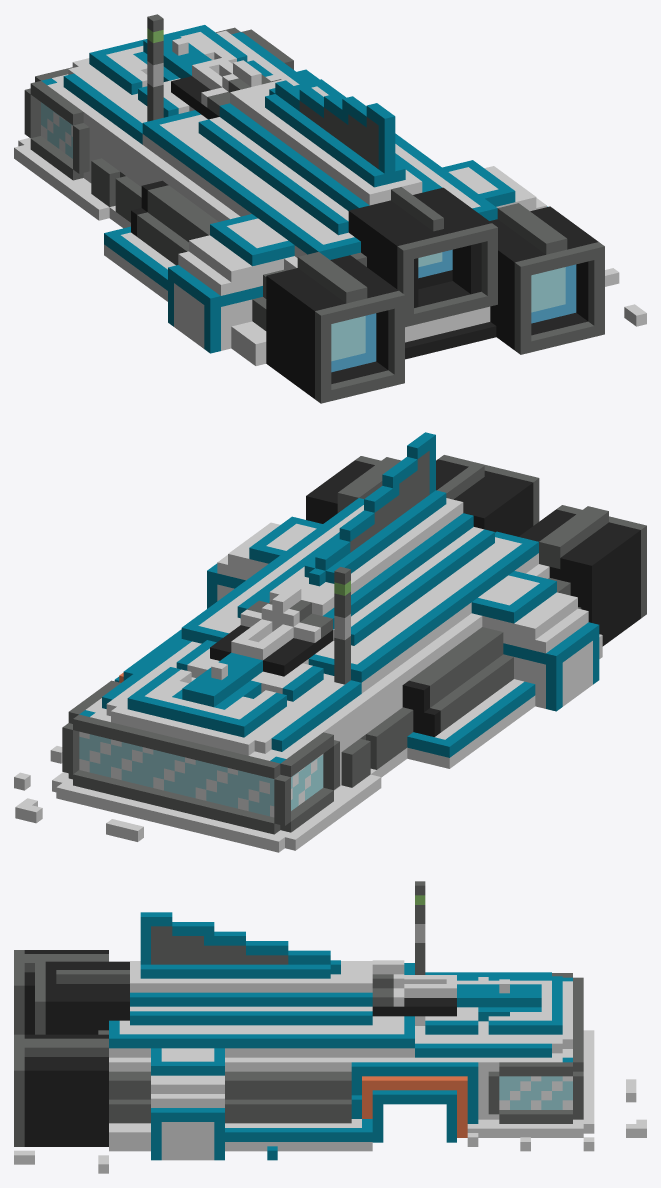
The model's file is spaceship mk2.obj.
The picture shows the model from 3 angles, top to bottom: view 1: azimuth 30°, elevation 25°; view 2: azimuth 150°, elevation 25°; view 3: azimuth 270°, elevation 25°; orthographic projection. The views are drawn at different scales.
Bounding box in the file's own units: 36 × 18 × 60.
